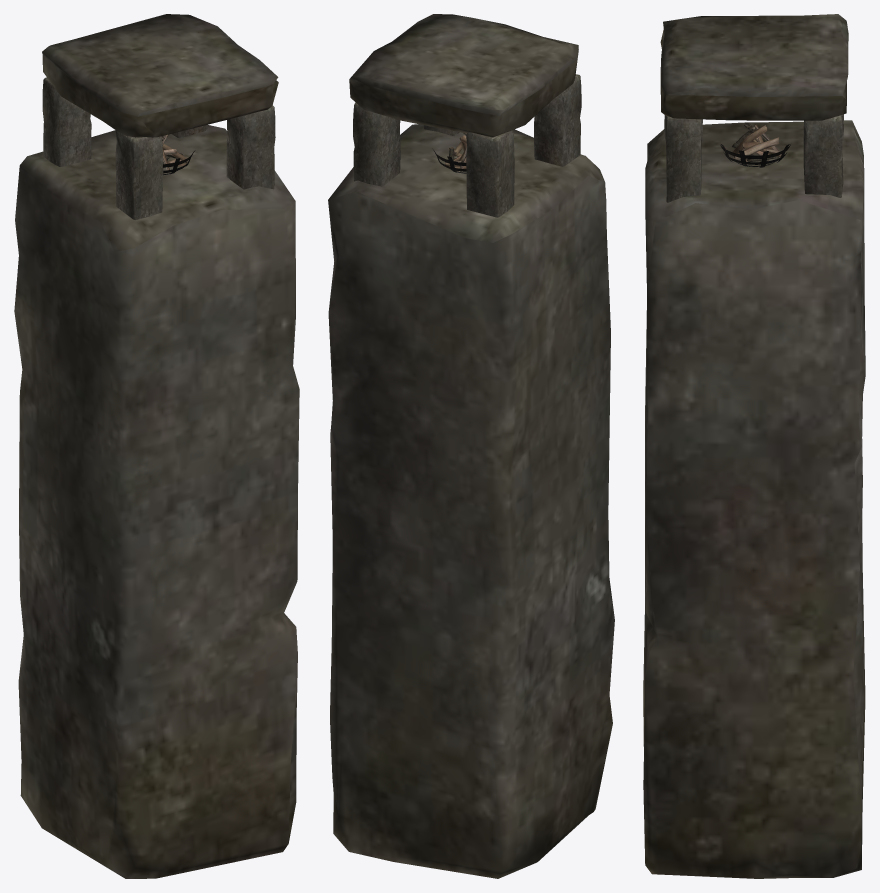
File: AEG003_323-transformed.glb
3 views of the same model, side by side, from view 1: azimuth 30°, elevation 25°; view 2: azimuth 150°, elevation 25°; view 3: azimuth 270°, elevation 25° (orthographic).
Visible parts, largest first — view 1: default; view 2: default; view 3: default.
Part boxes in pixels (box(x1,y1,x2,y2)): default: box(14, 14, 299, 878); default: box(328, 14, 614, 878); default: box(643, 14, 865, 878).
Bounding box in the file's own units: 0.4071 × 1.58 × 0.404.
Materials: 3 (3 with a texture image).
